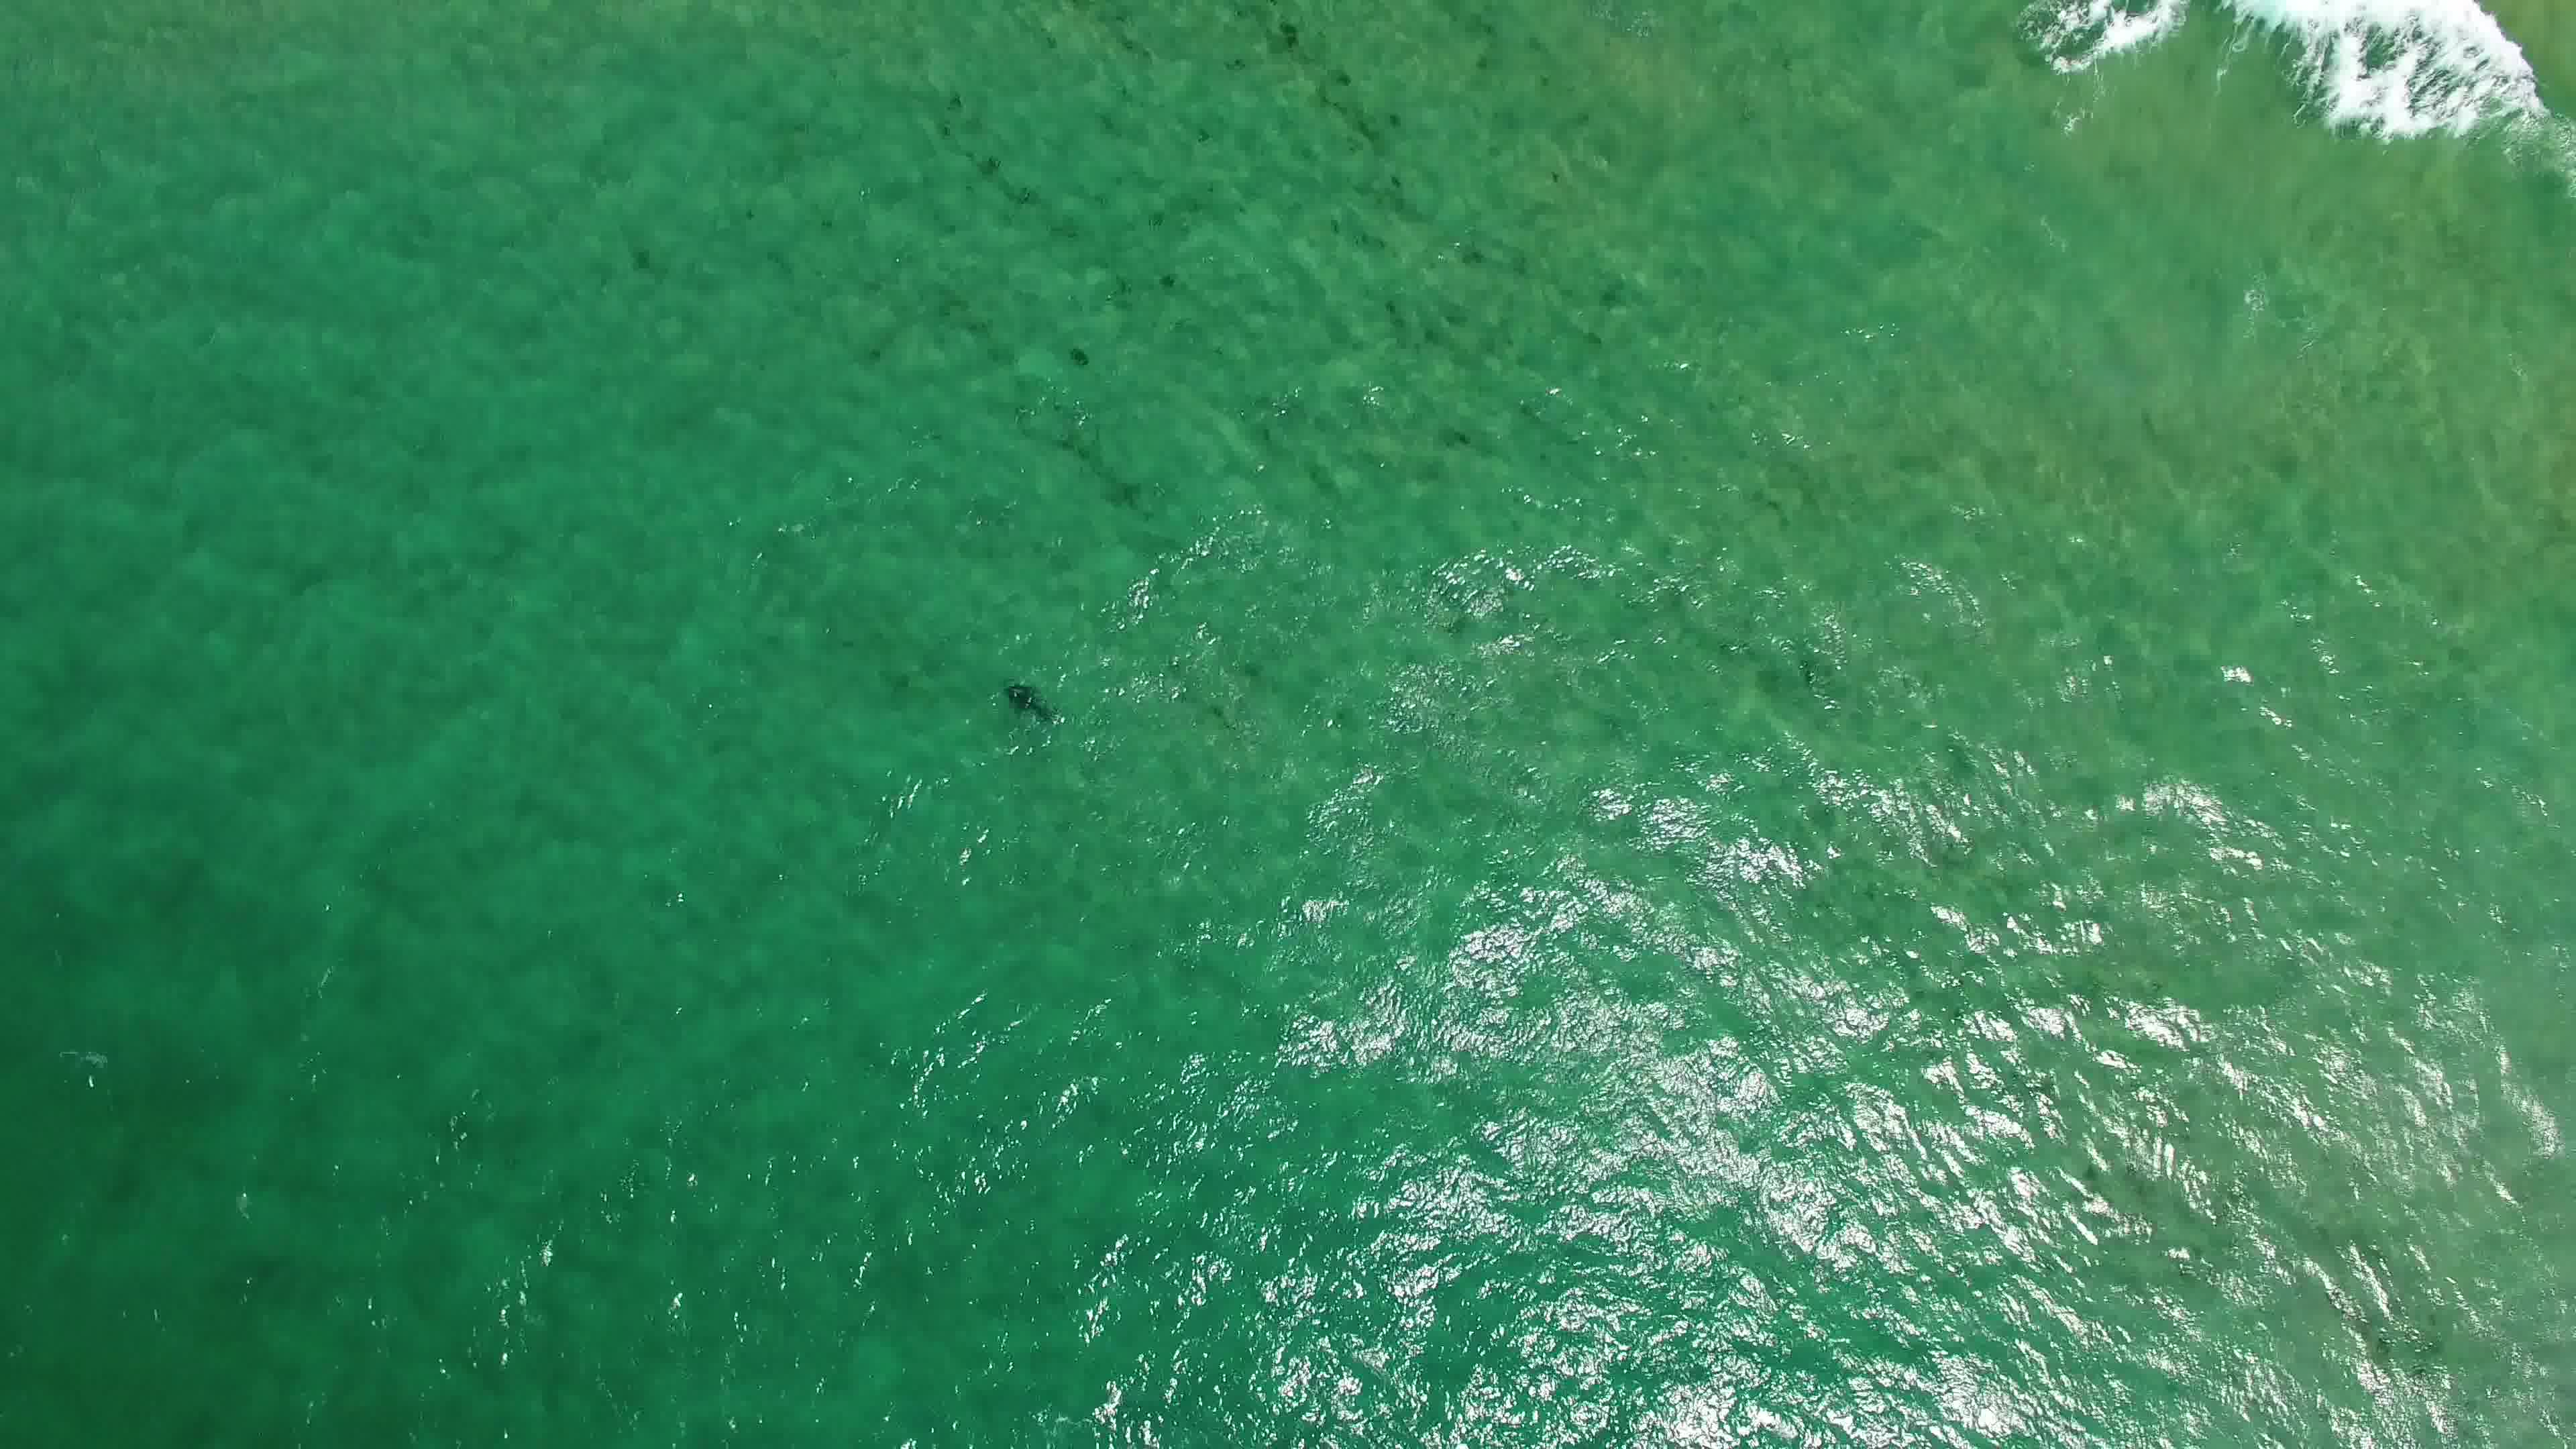shark: (1000, 678, 1069, 725)
